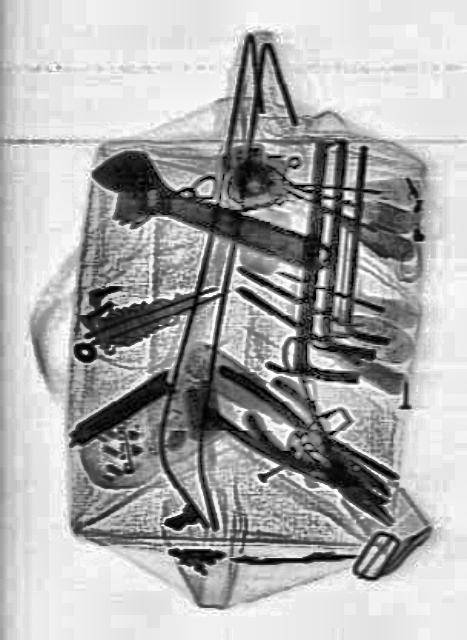Pliers: (197, 359, 400, 525), (238, 366, 408, 552)
Wrench: (79, 133, 336, 293)
